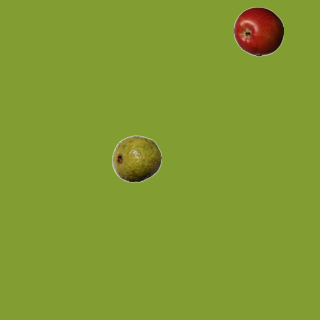Apple Braeburn: (233, 6, 283, 56)
Guava: (111, 133, 161, 183)
